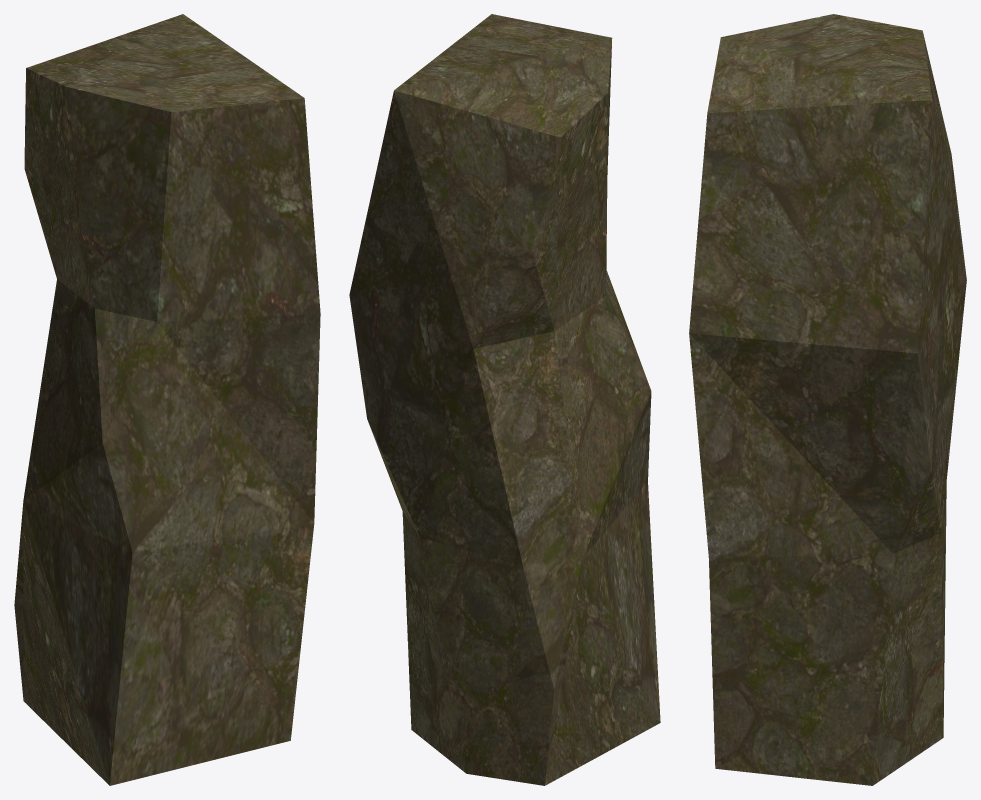
Rendered from column1_GEO.fbx.
3 views of the same model, side by side, from view 1: azimuth 30°, elevation 25°; view 2: azimuth 150°, elevation 25°; view 3: azimuth 270°, elevation 25° (orthographic). The views are drawn at different scales.
Parts seen in each view (by area): view 1: column1_GEO; view 2: column1_GEO; view 3: column1_GEO.
Boxes of the visible parts, left/top/right/bottom form: column1_GEO: left=14, top=14, right=320, bottom=785; column1_GEO: left=349, top=14, right=660, bottom=785; column1_GEO: left=689, top=14, right=966, bottom=785.
Size of the model in its own units: 1.18 by 3.34 by 1.23.
